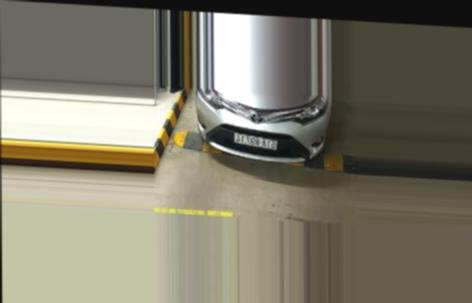License_Plate: (232, 132, 281, 151)
